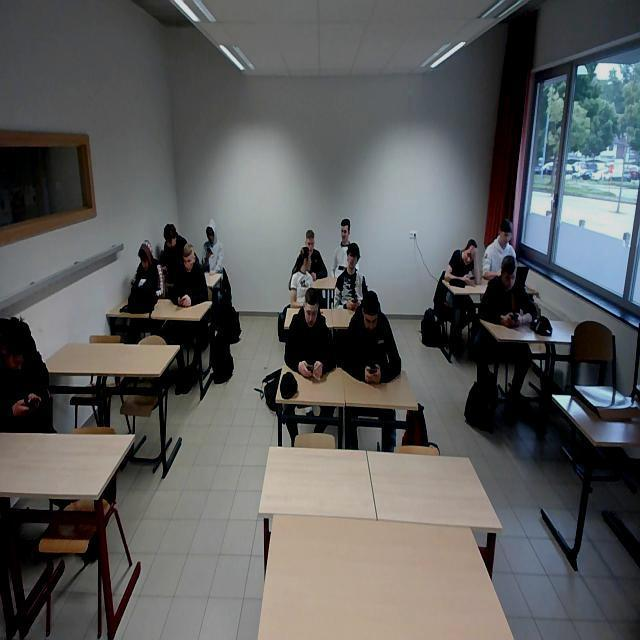Looking away: (490, 215, 521, 253), (156, 220, 182, 252), (301, 222, 319, 254), (337, 218, 354, 246)
Phone use: (0, 317, 50, 432), (345, 292, 403, 385), (286, 288, 337, 377), (120, 227, 164, 316), (489, 257, 528, 324), (334, 244, 370, 311), (174, 242, 208, 306), (194, 216, 232, 273), (446, 236, 480, 290)
Turning around: (292, 246, 320, 320)
